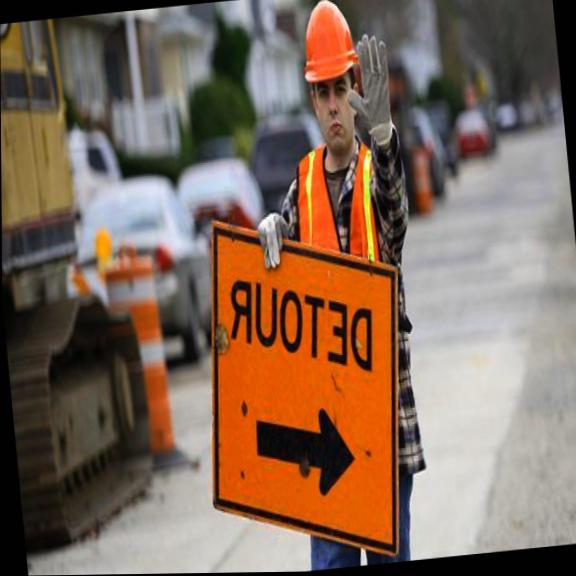safety_vest: (291, 135, 387, 274)
